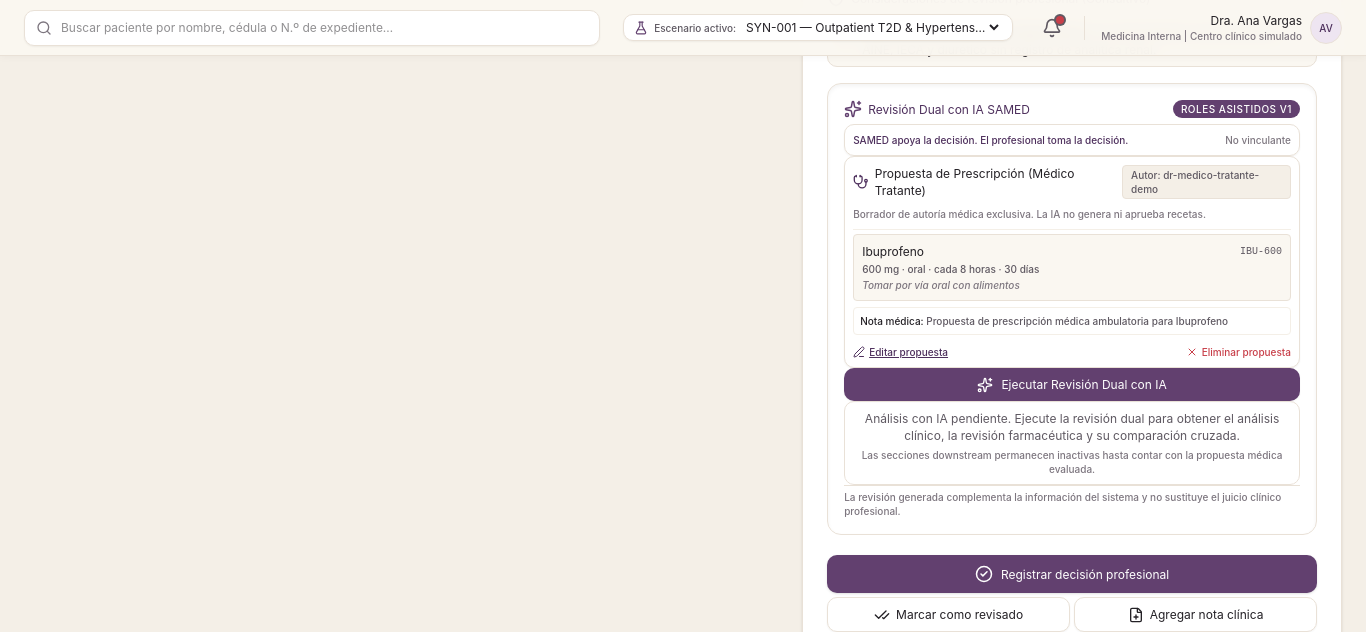
Test: MedicationReview — SAMED Visual Baseline v1 › Independent Non-Blocking Dual AI Execution & Fault Isolation in UI › isolates Clinical Assistant failure, preserves valid Pharmacy Review, and shows unavailable state in Comparison without fabricating
(page scrolled)
Click the button "Ejecutar Revisión Dual con IA" at (1072, 384), box [844, 368, 1300, 401]
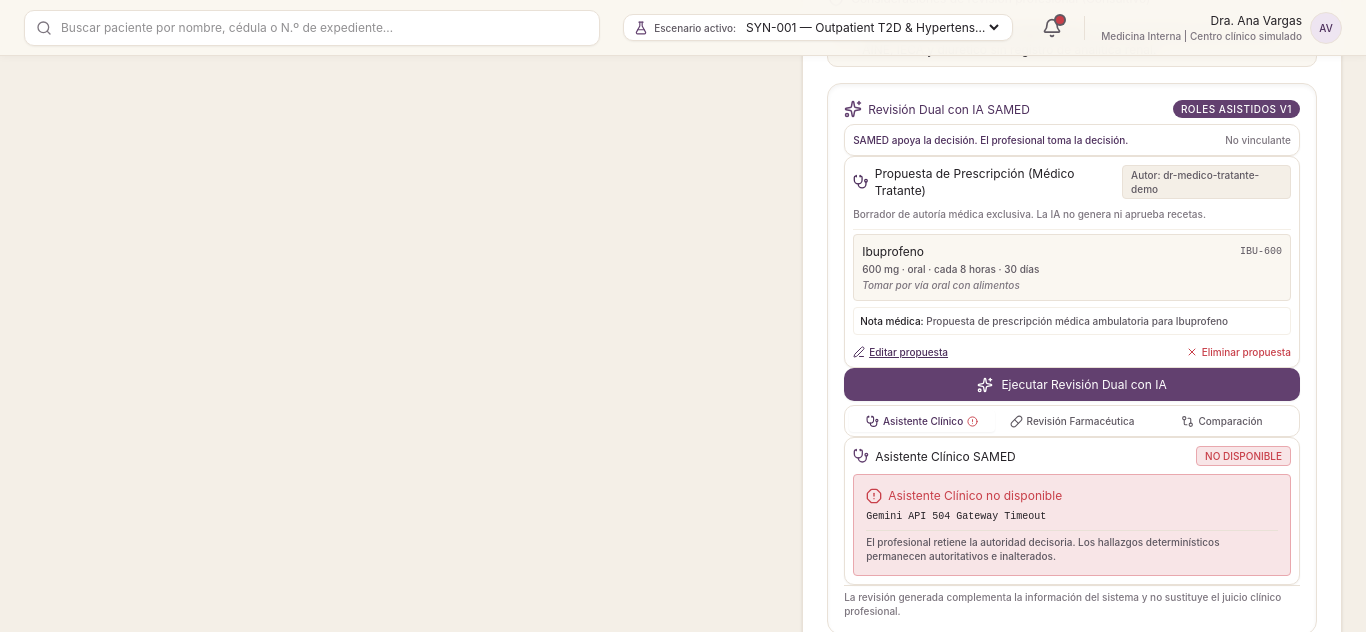
Result: the text "Asistente Clínico no disponible" is shown at [888, 487, 1062, 504]
Result: the text "Gemini API 504 Gateway Timeout" is shown at [866, 511, 1046, 522]
Note: Pharmacy tab shows success
Click the tab "Revisión Farmacéutica" at (1072, 421), box [999, 410, 1145, 432]
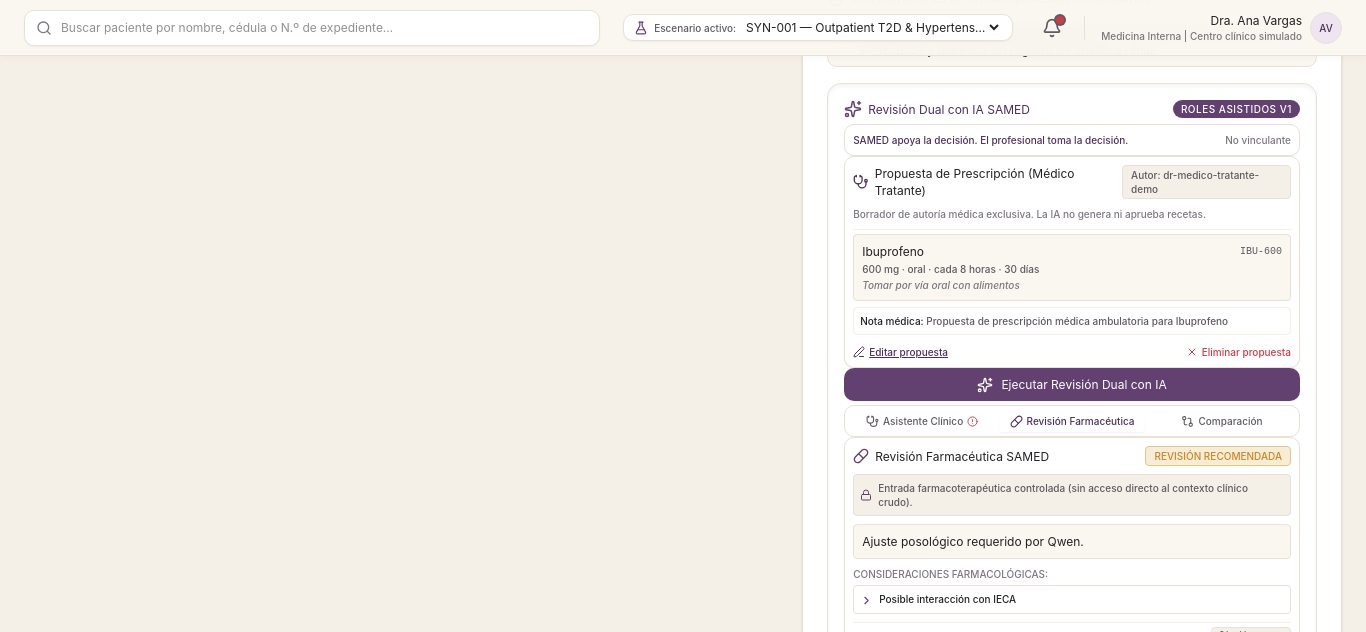
Result: the text "Ajuste posológico requerido por Qwen." is shown at [853, 524, 1291, 559]
Note: Comparison tab shows clear unavailable state with reason, never fabricating
Click the tab "Comparación" at (1222, 421), box [1149, 410, 1295, 432]
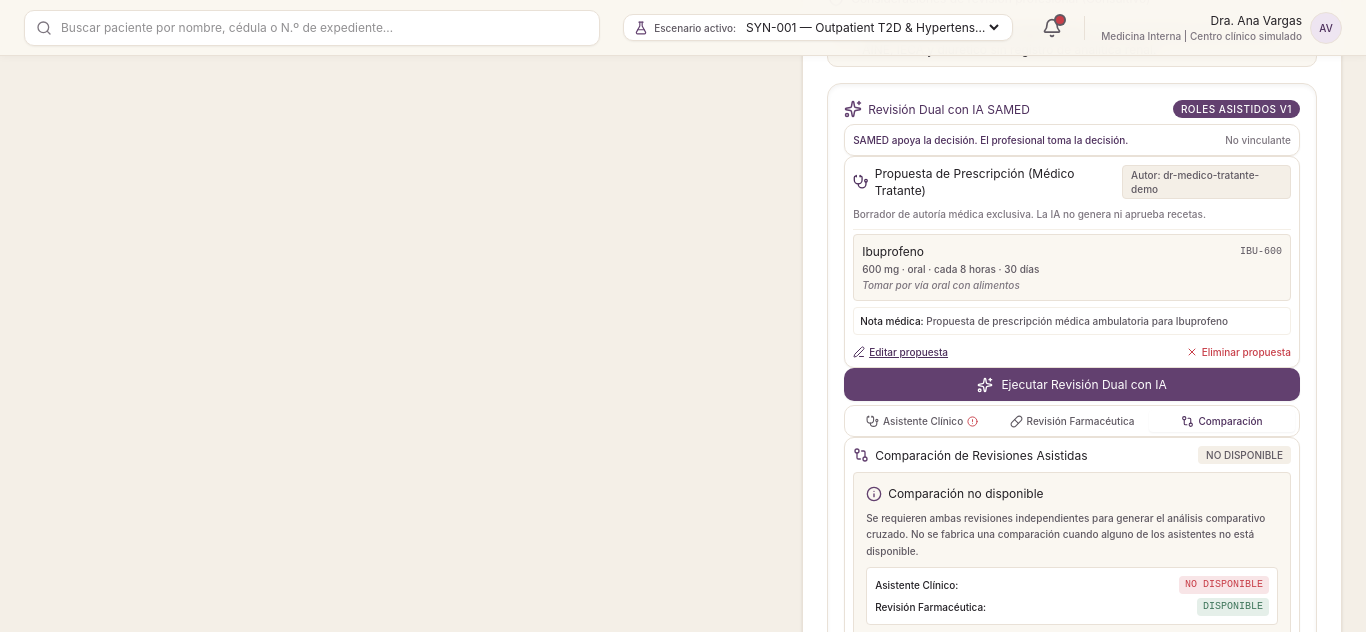
Result: the text "Comparación no disponible" is shown at [888, 485, 1044, 502]
Result: the text "no se fabrica una comparación cuando alguno de los asistentes no está disponible" is shown at [866, 512, 1265, 556]
Result: the text "DISPONIBLE" is shown at [1197, 598, 1269, 616]
